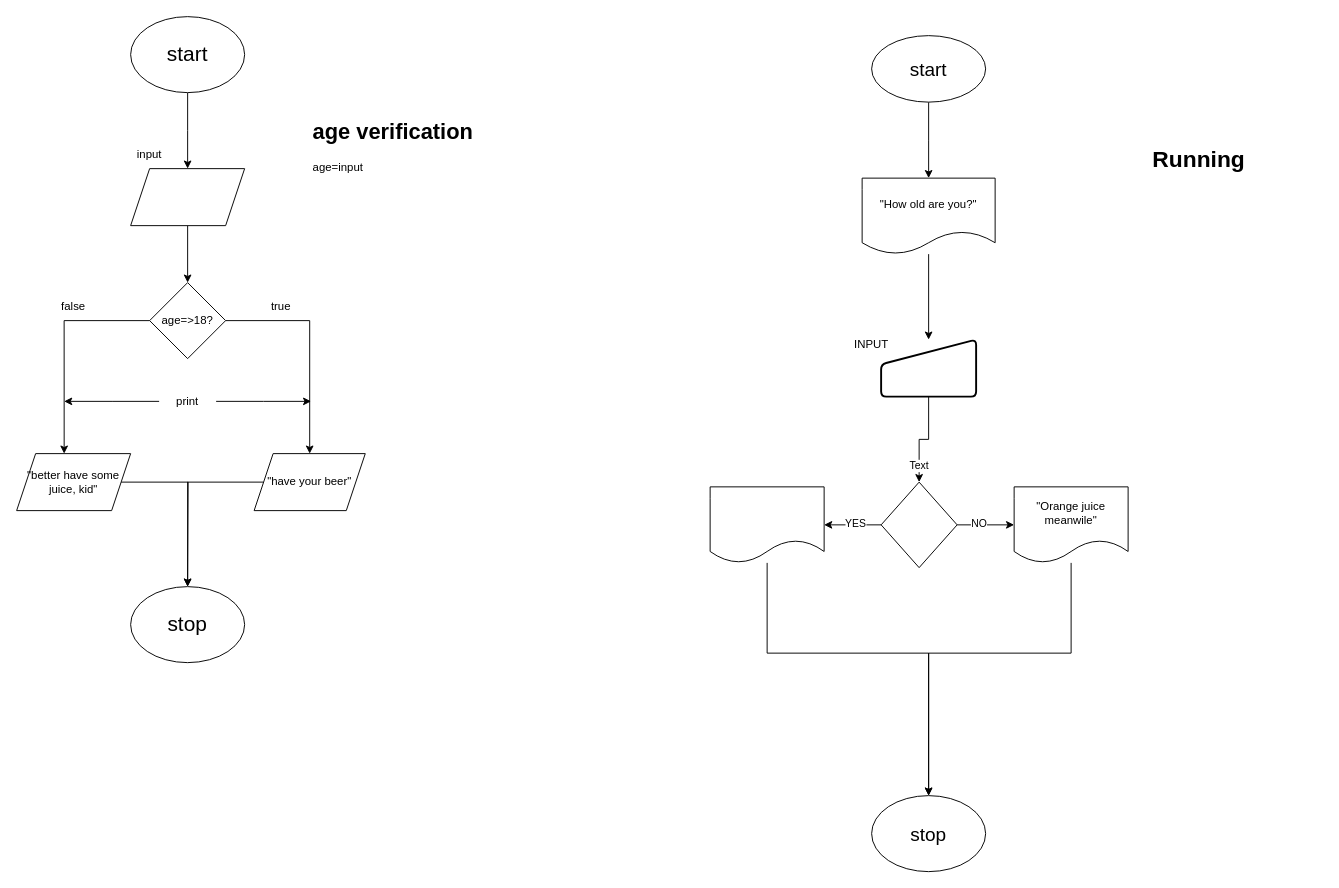
Some shapes in this 1339 by 888 pixel diagram are drawn without their labels. The shapes that lost their labels are listed below. From the top down, each one's centre as x and y in pixels, then its label:
pixel 187 197: "how old are you"
pixel 928 367: age
pixel 766 524: "Get your beer!"
pixel 918 524: age>=18
